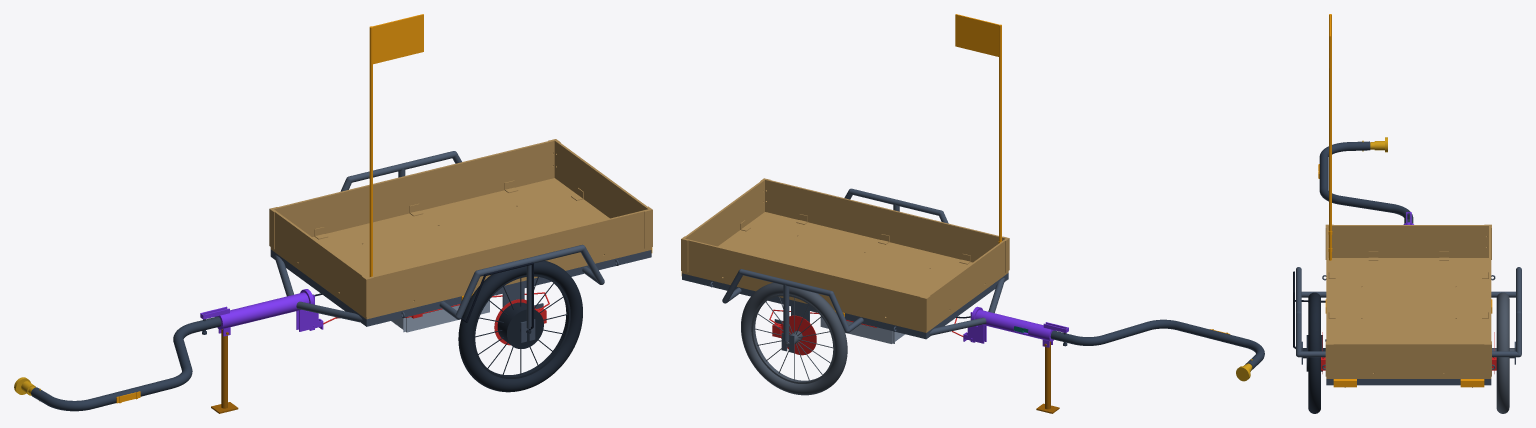
3 renders of one model, left to right at view 1: azimuth 30°, elevation 25°; view 2: azimuth 150°, elevation 25°; view 3: azimuth 270°, elevation 25°, orthographic. The views are drawn at different scales.
Parts seen in each view (by area): view 1: Deck and side boards, Hub motor wheel, 250 W geared, Chassis frame, welded steel, Lights, reflectors and flag, Drawbar, offset, Overrun brake coupler, Battery and electronics enclosure, Parking stand; view 2: Deck and side boards, Chassis frame, welded steel, Idler wheel, Drawbar, offset, Lights, reflectors and flag, Overrun brake coupler, Mechanical disc brakes (pair), Battery and electronics enclosure; view 3: Deck and side boards, Chassis frame, welded steel, Drawbar, offset, Idler wheel, Hub motor wheel, 250 W geared, Lights, reflectors and flag.
Part boxes in pixels (left/top/right/bottom): Deck and side boards: left=269, top=139, right=652, bottom=319; Hub motor wheel, 250 W geared: left=458, top=261, right=582, bottom=392; Chassis frame, welded steel: left=270, top=151, right=651, bottom=342; Lights, reflectors and flag: left=116, top=14, right=652, bottom=403; Drawbar, offset: left=31, top=314, right=221, bottom=411; Overrun brake coupler: left=200, top=289, right=323, bottom=336; Battery and electronics enclosure: left=391, top=299, right=489, bottom=332; Parking stand: left=211, top=329, right=238, bottom=413; Deck and side boards: left=681, top=178, right=1009, bottom=332; Chassis frame, welded steel: left=682, top=188, right=1008, bottom=352; Idler wheel: left=741, top=282, right=847, bottom=395; Drawbar, offset: left=1050, top=319, right=1264, bottom=370; Lights, reflectors and flag: left=681, top=14, right=1230, bottom=334; Overrun brake coupler: left=963, top=306, right=1068, bottom=347; Mechanical disc brakes (pair): left=769, top=309, right=963, bottom=355; Battery and electronics enclosure: left=820, top=316, right=904, bottom=343; Deck and side boards: left=1325, top=224, right=1491, bottom=378; Chassis frame, welded steel: left=1296, top=267, right=1521, bottom=385; Drawbar, offset: left=1319, top=141, right=1413, bottom=223; Idler wheel: left=1492, top=292, right=1514, bottom=413; Hub motor wheel, 250 W geared: left=1303, top=292, right=1326, bottom=413; Lights, reflectors and flag: left=1318, top=14, right=1492, bottom=387.
Bounding box in the file's own units: 2.55 × 1.57 × 0.9715.
